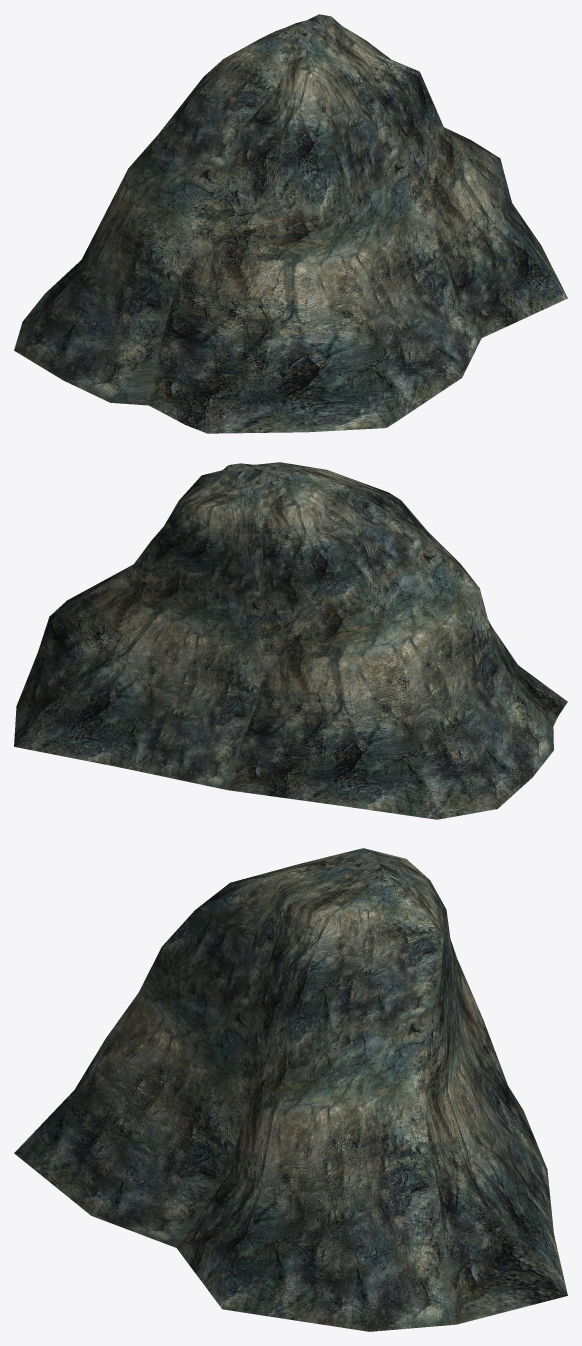
Rendered from pir_m_are_isl_rockBig.fbx.
3 renders of one model, top to bottom at view 1: azimuth 30°, elevation 25°; view 2: azimuth 150°, elevation 25°; view 3: azimuth 270°, elevation 25°, orthographic. The views are drawn at different scales.
Parts seen in each view (by area): view 1: whole_island; view 2: whole_island; view 3: whole_island.
Boxes of the visible parts, <box> form: whole_island: <box>14,14,567,433</box>; whole_island: <box>14,462,567,819</box>; whole_island: <box>14,848,567,1331</box>.
Size of the model in its own units: 123561 by 65765 by 98716.
Materials: 1 (1 with a texture image).
